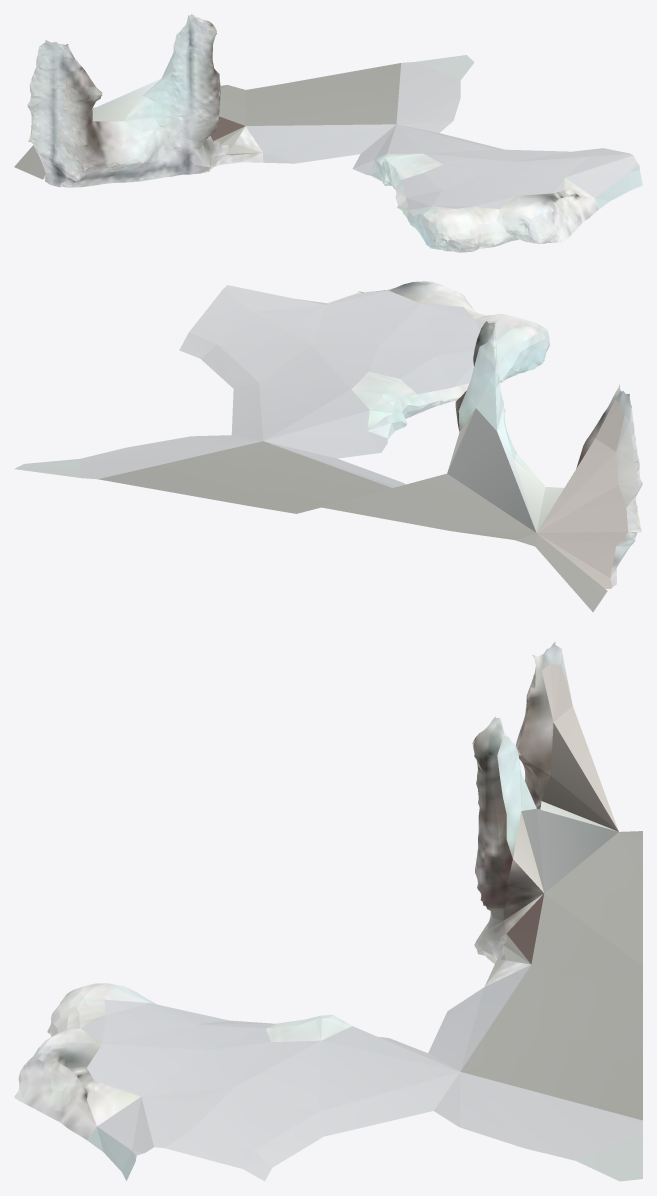
The picture shows the model from 3 angles, top to bottom: view 1: azimuth 30°, elevation 25°; view 2: azimuth 150°, elevation 25°; view 3: azimuth 270°, elevation 25°; orthographic projection. The views are drawn at different scales.
Bounding box in the file's own units: 1.64 × 0.5342 × 1.31.
1 material, 1 textured.
